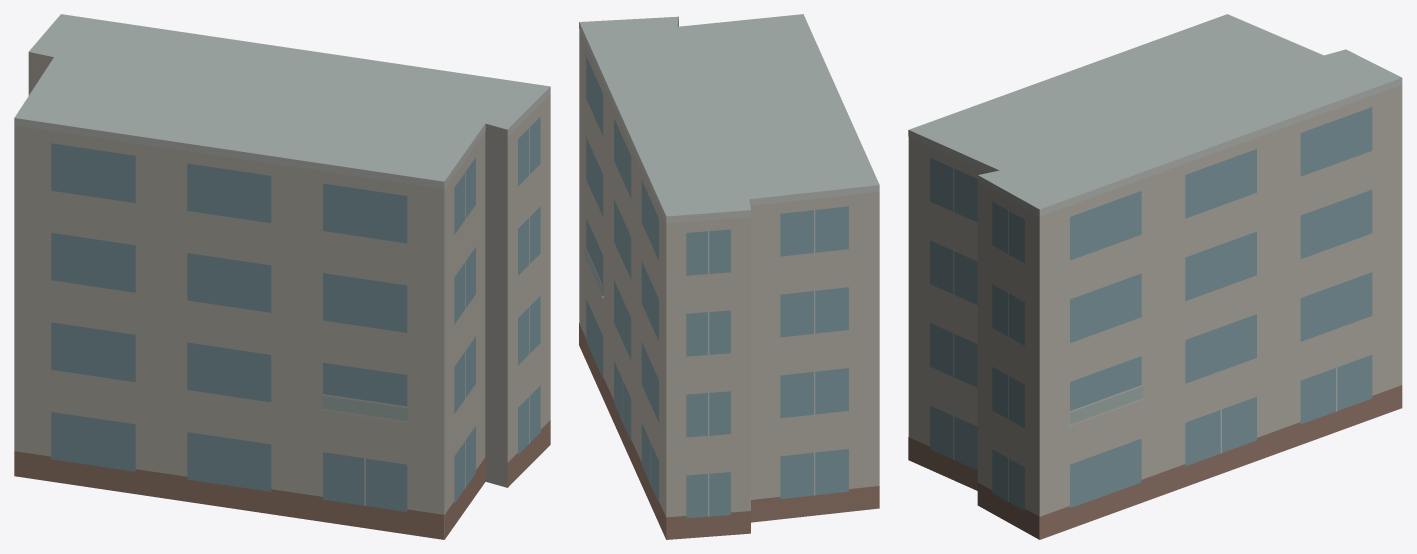
File: survey-upis-32618597.glb
3 views of the same model, side by side, from view 1: azimuth 30°, elevation 25°; view 2: azimuth 150°, elevation 25°; view 3: azimuth 270°, elevation 25° (orthographic). The views are drawn at different scales.
Visible parts, largest first — view 1: survey-upis-32618597.tmp; view 2: survey-upis-32618597.tmp; view 3: survey-upis-32618597.tmp.
Part boxes in pixels (<box>): survey-upis-32618597.tmp: <box>14,14,550,539</box>; survey-upis-32618597.tmp: <box>579,14,879,539</box>; survey-upis-32618597.tmp: <box>908,14,1402,539</box>.
Size of the model in its own units: 14.86 by 11.7 by 15.86.
